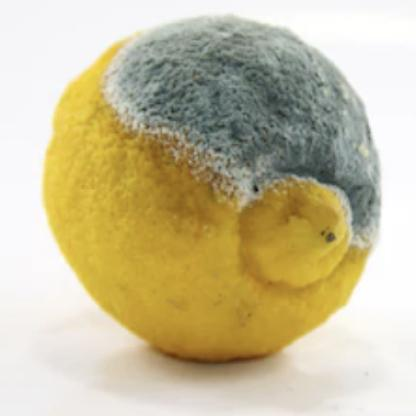rotten: (45, 15, 381, 368)
